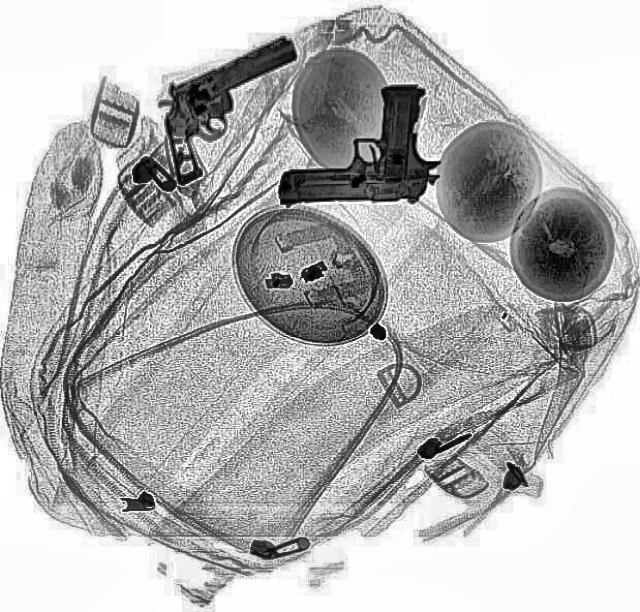Gun: (131, 32, 337, 186), (276, 82, 440, 206)
